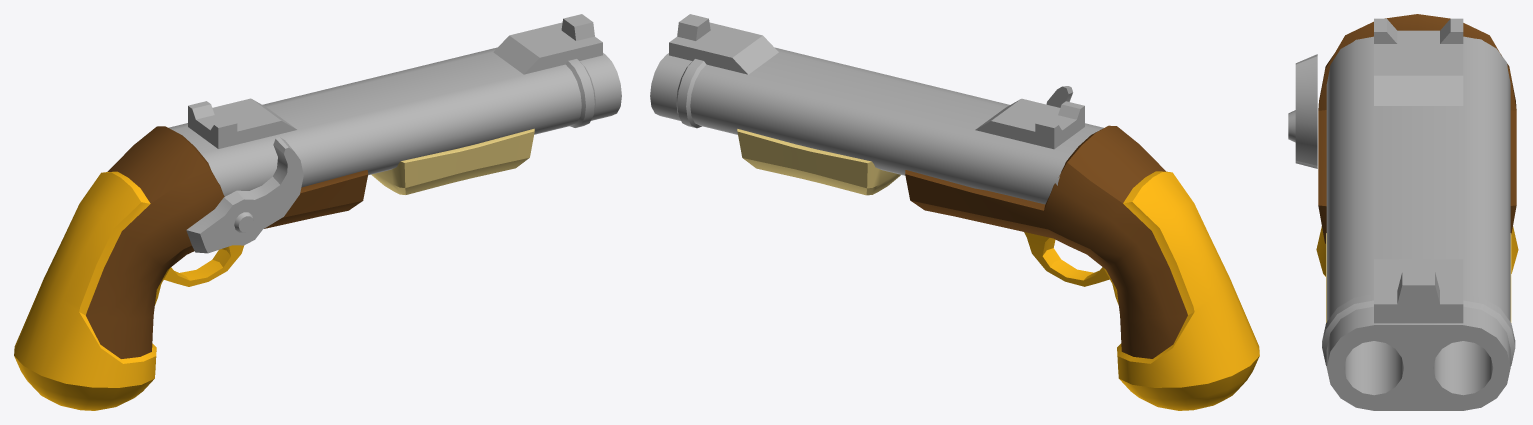
File: pistol.glb
The picture shows the model from 3 angles, left to right: view 1: azimuth 30°, elevation 25°; view 2: azimuth 150°, elevation 25°; view 3: azimuth 270°, elevation 25°; orthographic projection. The views are drawn at different scales.
Visible parts, largest first — view 1: Weapon_DoubleShotgun; view 2: Weapon_DoubleShotgun; view 3: Weapon_DoubleShotgun.
Boxes of the visible parts, x1,y1,x2,y2 form: Weapon_DoubleShotgun: [14, 14, 621, 410]; Weapon_DoubleShotgun: [650, 14, 1259, 410]; Weapon_DoubleShotgun: [1288, 14, 1518, 410].
Size of the model in its own units: 1.58 by 0.6987 by 0.3802.
Materials: 1 (1 with a texture image).
